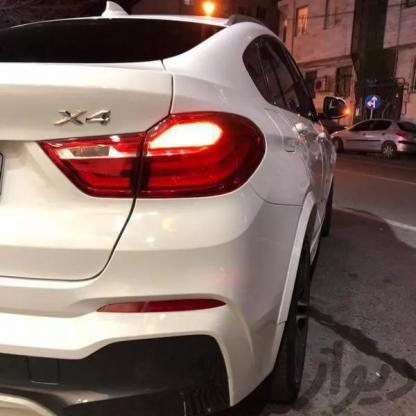Car: (0, 7, 345, 416), (304, 122, 415, 169)
